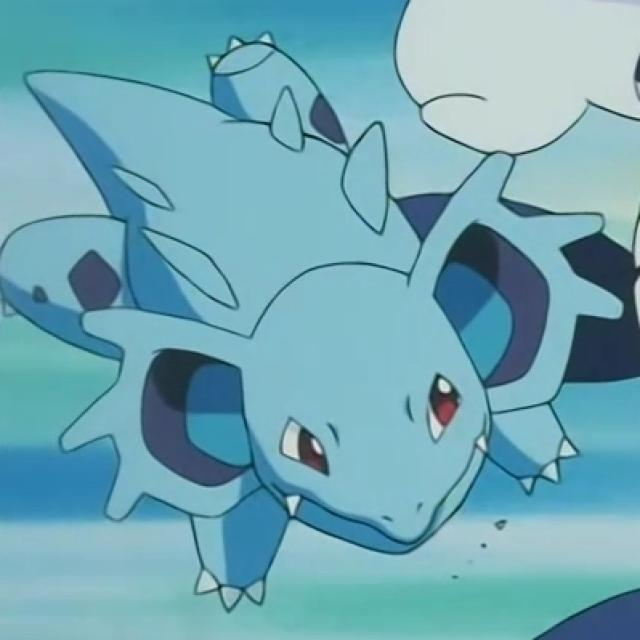Nidorina: (27, 63, 581, 557)
